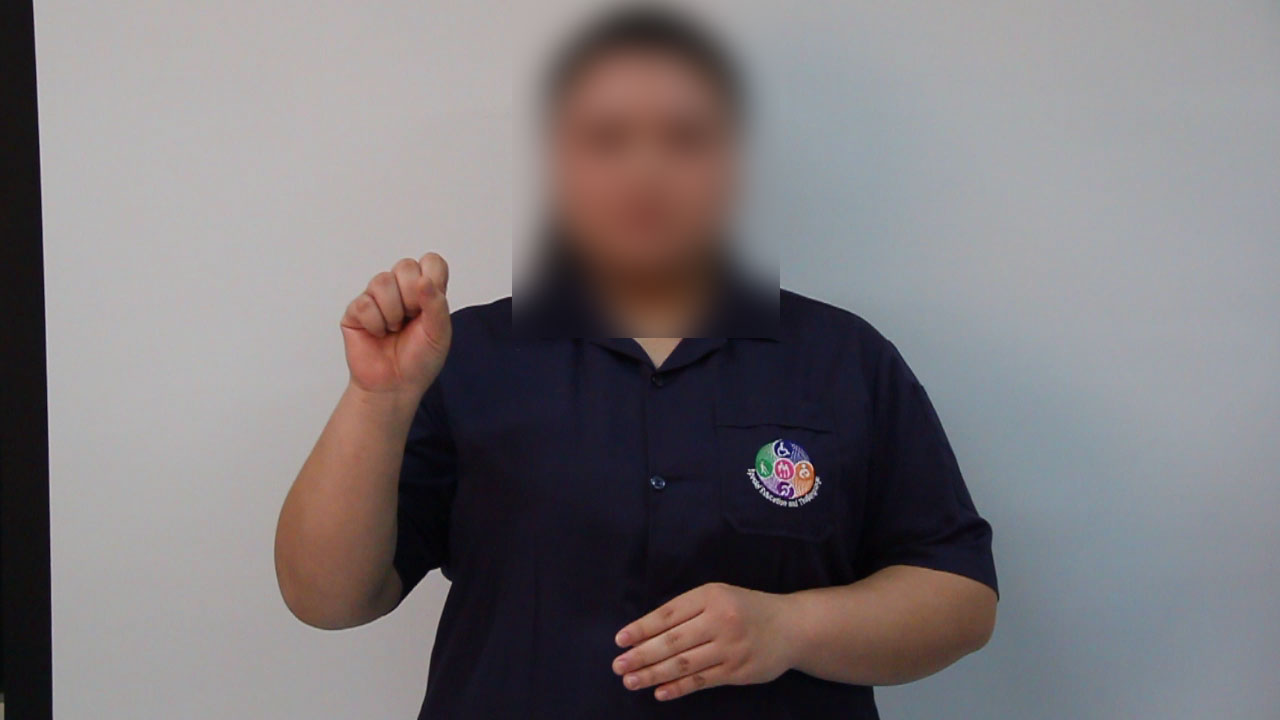sor: (336, 233, 466, 402)
